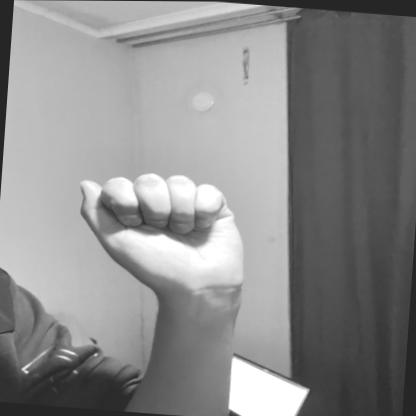A: (66, 163, 260, 303)
